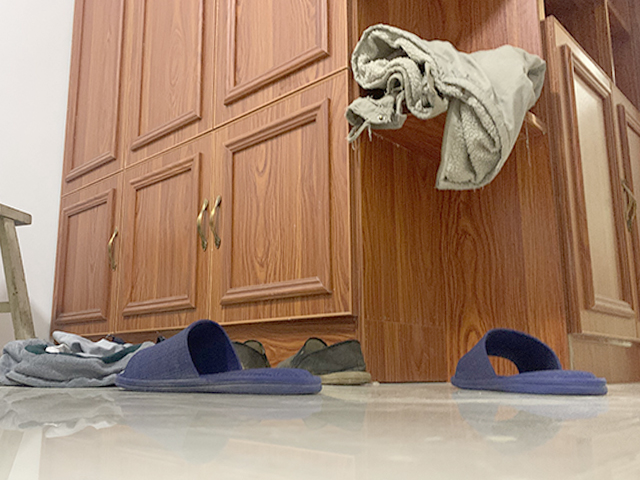cabinet: (47, 33, 361, 384), (544, 12, 640, 383)
slippers: (113, 318, 323, 396), (445, 328, 610, 397)
